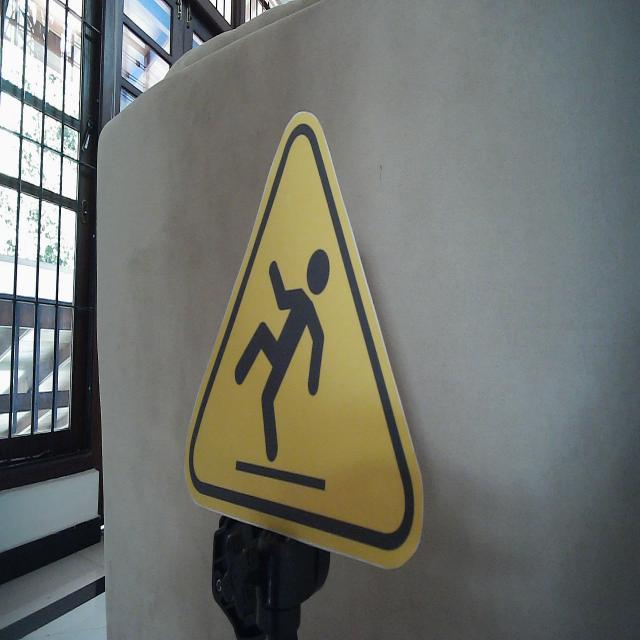slippery_sign: (182, 108, 427, 574)
